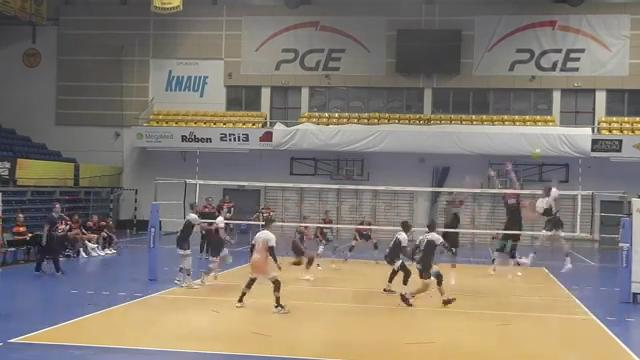Attack: (518, 172, 580, 280)
Block: (477, 157, 523, 281)
Player: (236, 218, 288, 313), (400, 220, 455, 306), (196, 216, 229, 284), (383, 220, 411, 293), (175, 203, 199, 287), (442, 200, 462, 284), (345, 220, 378, 260), (291, 226, 314, 280), (314, 226, 332, 257), (514, 252, 534, 266)
ball: (530, 148, 541, 159)
